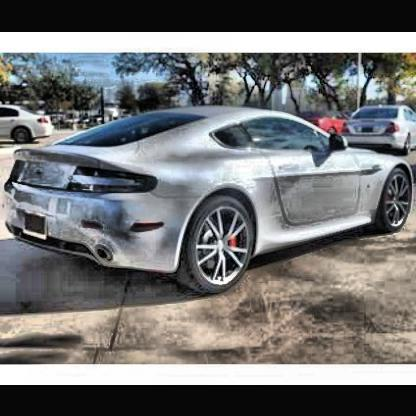Aston Martin V8 Vantage Coupe 2012: (5, 92, 416, 302)
